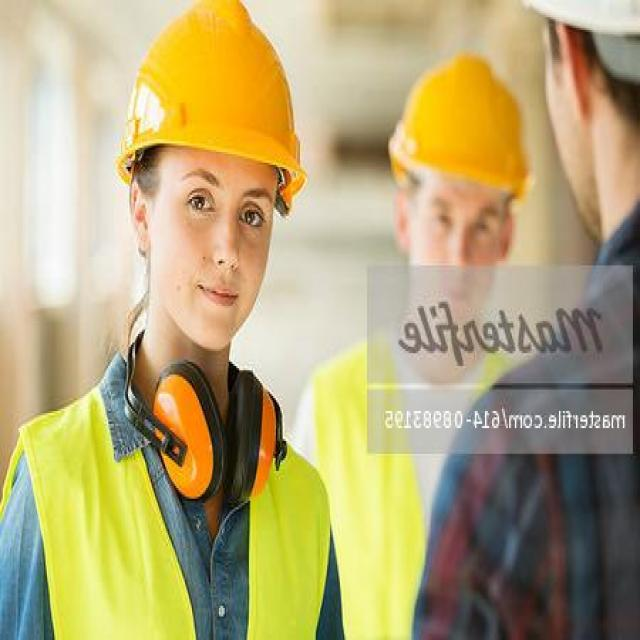Reflective-Jacket: (4, 372, 337, 638)
Safety-Helmet: (111, 4, 310, 193), (385, 47, 532, 208), (522, 0, 640, 49)
